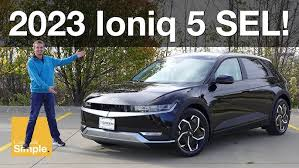Honda Ioniq: (78, 48, 294, 161)
